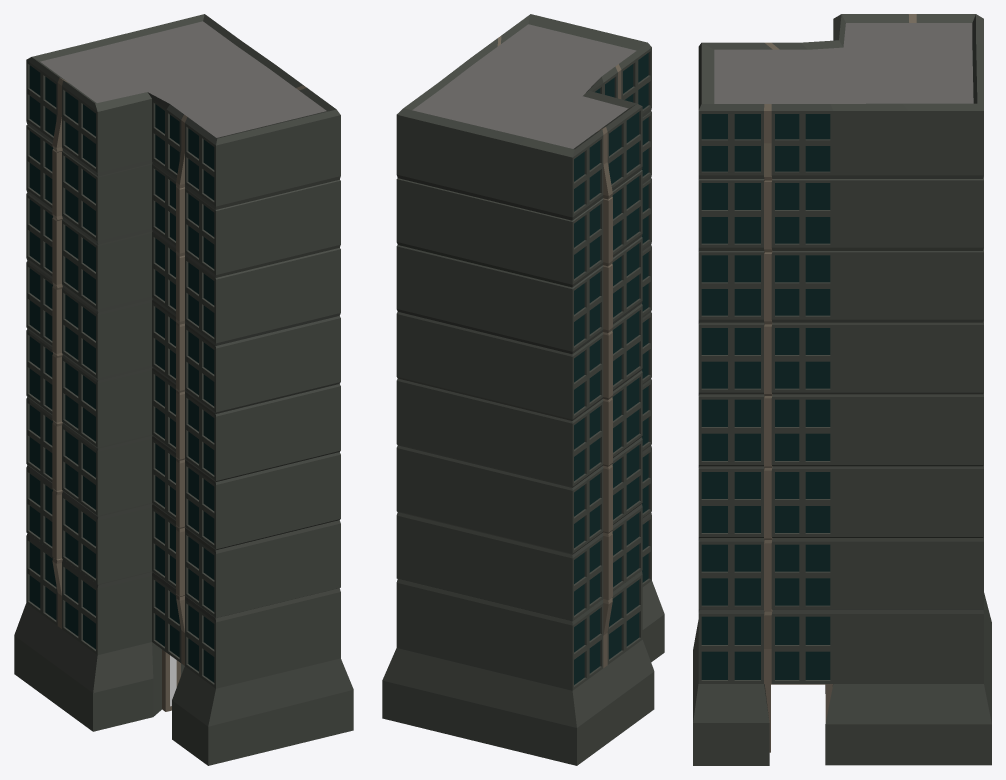
Rendered from APARTMENTS 2.fbx.
The picture shows the model from 3 angles, left to right: view 1: azimuth 30°, elevation 25°; view 2: azimuth 150°, elevation 25°; view 3: azimuth 270°, elevation 25°; orthographic projection. The views are drawn at different scales.
Visible parts, largest first — view 1: Cube; view 2: Cube; view 3: Cube.
Part boxes in pixels (x1,y1,x2,y2): Cube: [14, 14, 353, 765]; Cube: [382, 14, 664, 765]; Cube: [693, 14, 991, 765].
Size of the model in its own units: 550 by 1646 by 680.
